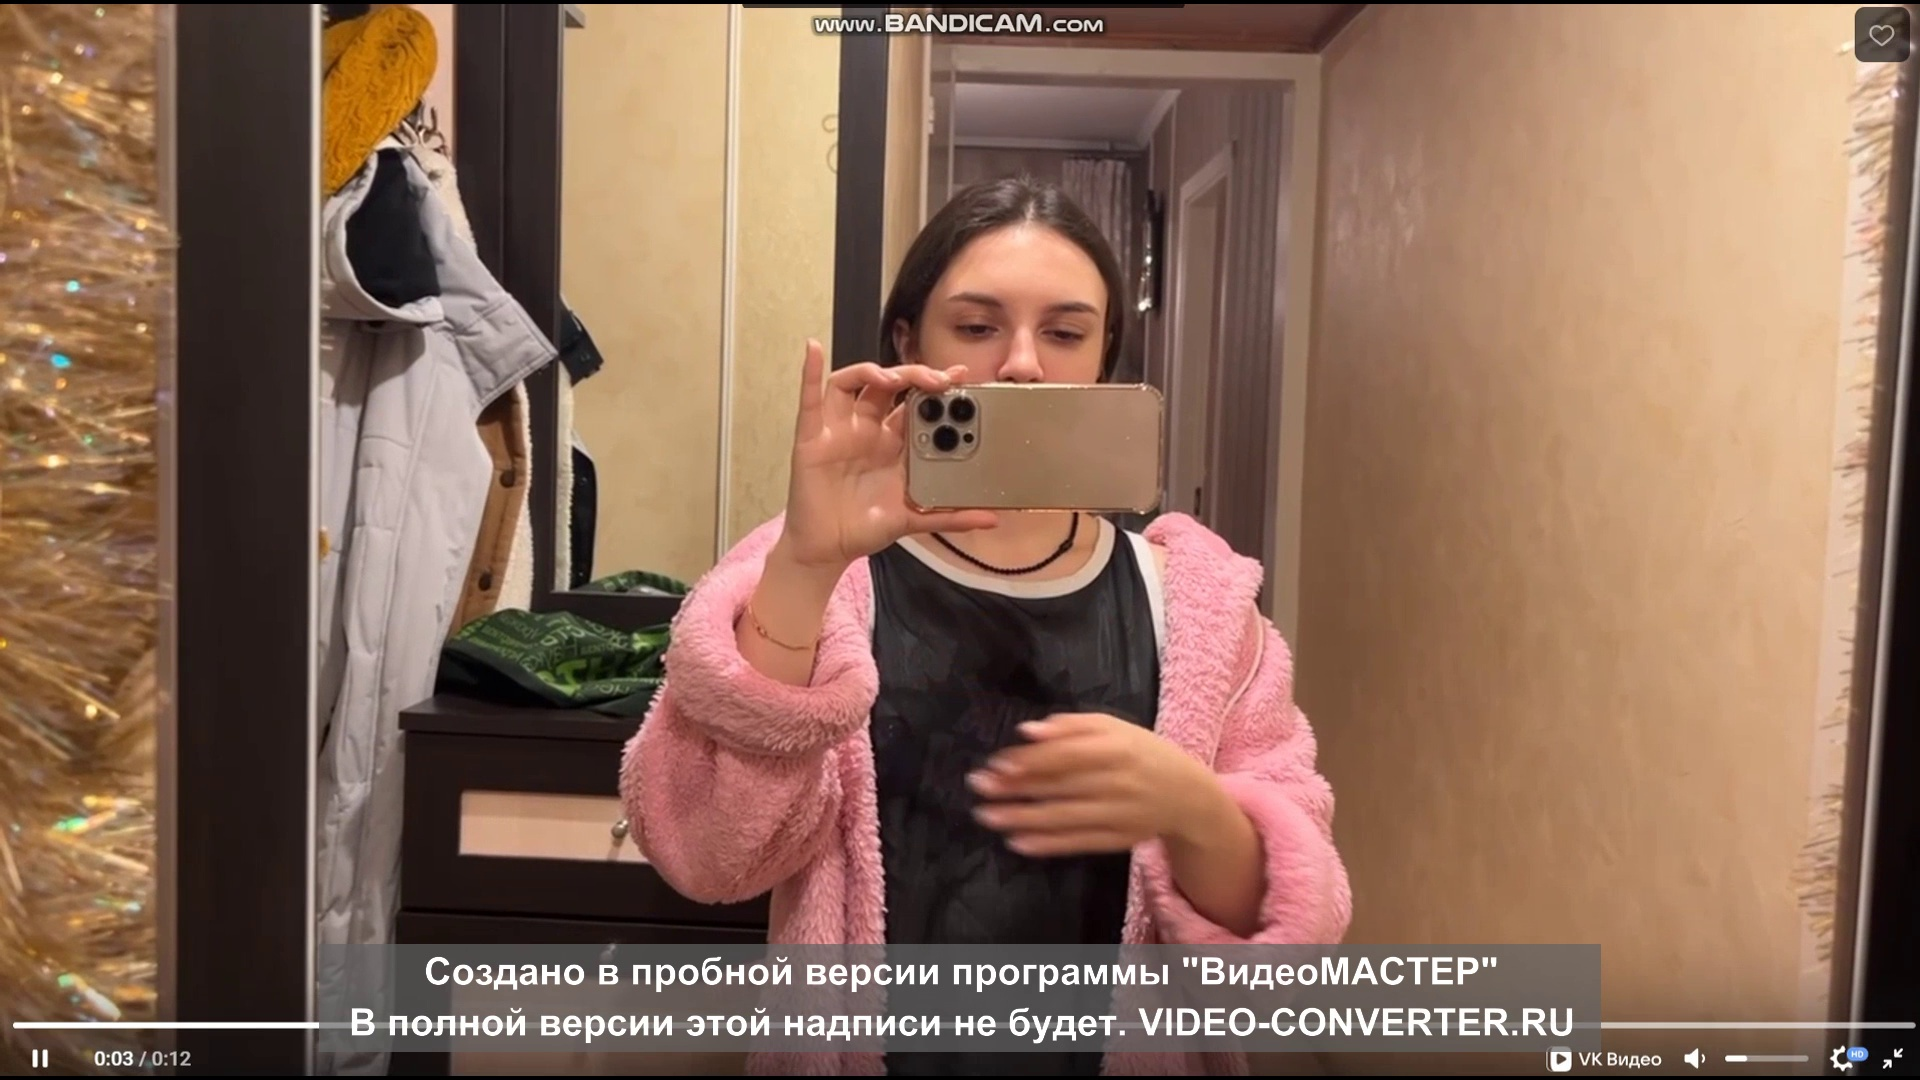Кисть: (965, 698, 1196, 853)
